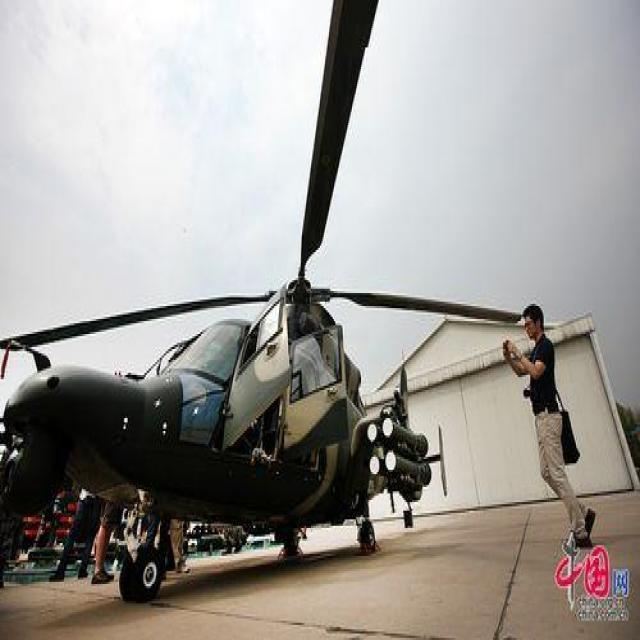MIL_HELO: (5, 0, 525, 601)
